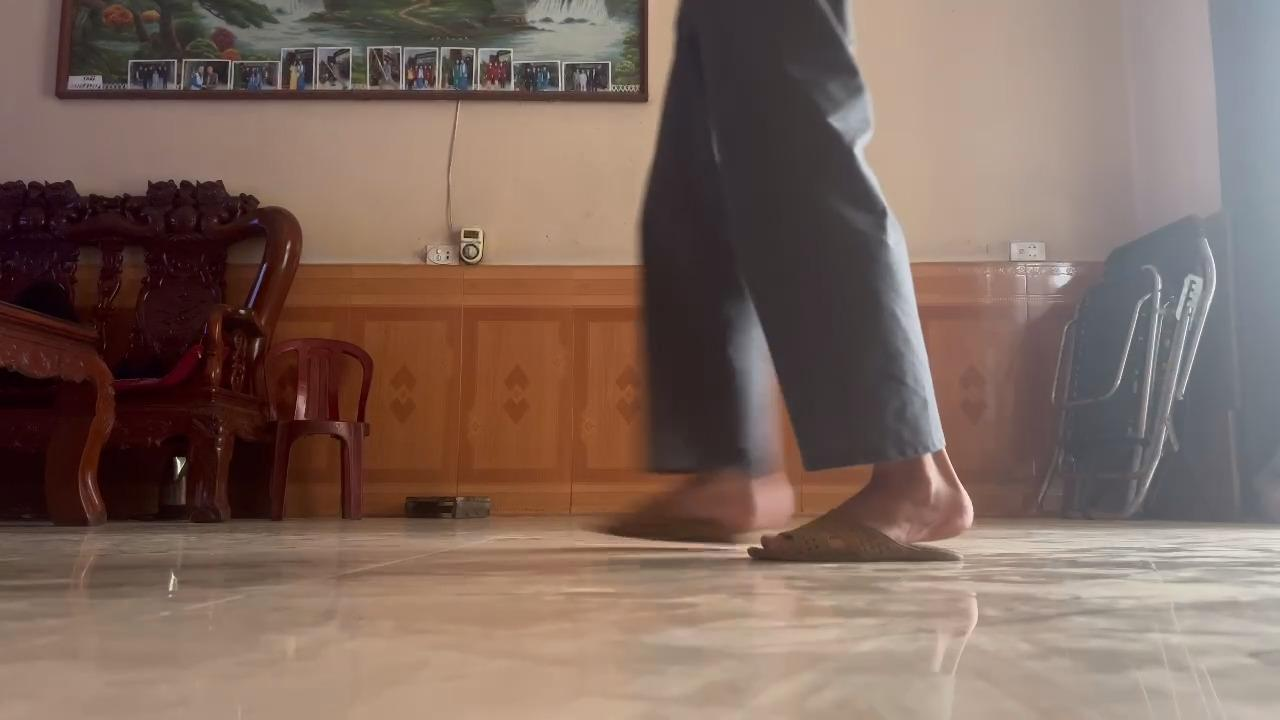no-boot: (746, 475, 972, 570), (589, 473, 806, 545)
